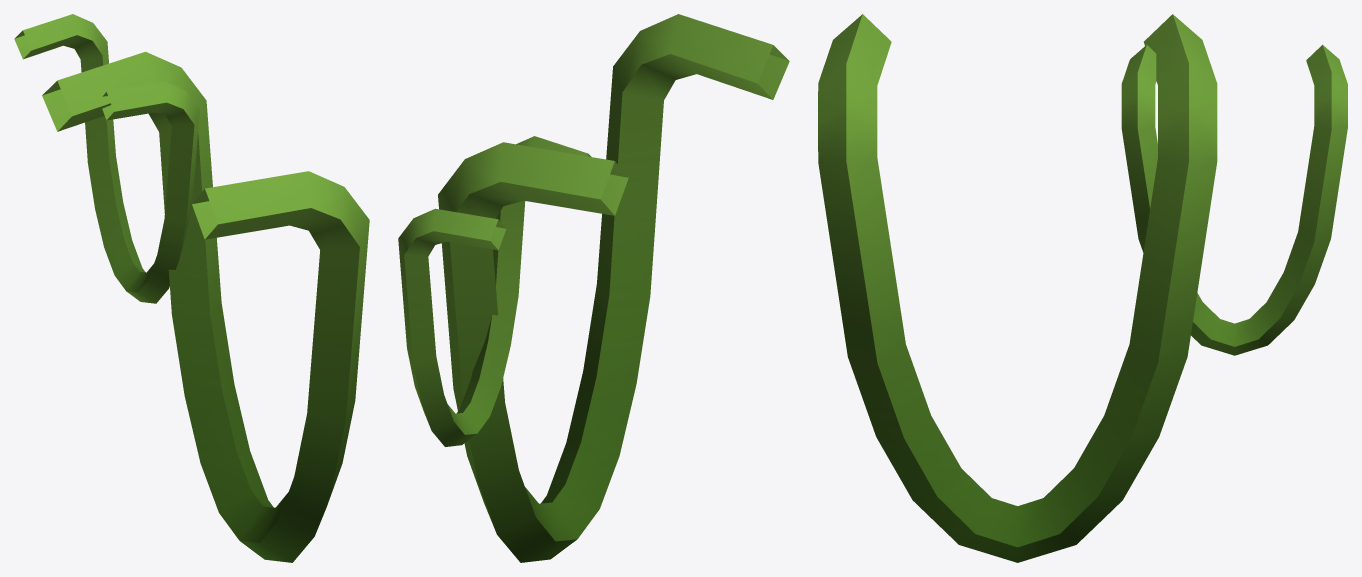
File: m_deco_vineA.FBX
3 views of the same model, side by side, from view 1: azimuth 30°, elevation 25°; view 2: azimuth 150°, elevation 25°; view 3: azimuth 270°, elevation 25° (orthographic). The views are drawn at different scales.
Parts seen in each view (by area): view 1: m_deco_vineA; view 2: m_deco_vineA; view 3: m_deco_vineA.
Boxes of the visible parts, bbox=[...] form: m_deco_vineA: bbox=[14, 14, 369, 562]; m_deco_vineA: bbox=[398, 14, 789, 562]; m_deco_vineA: bbox=[818, 14, 1347, 562].
Size of the model in its own units: 0.4524 by 1.25 by 1.25.
